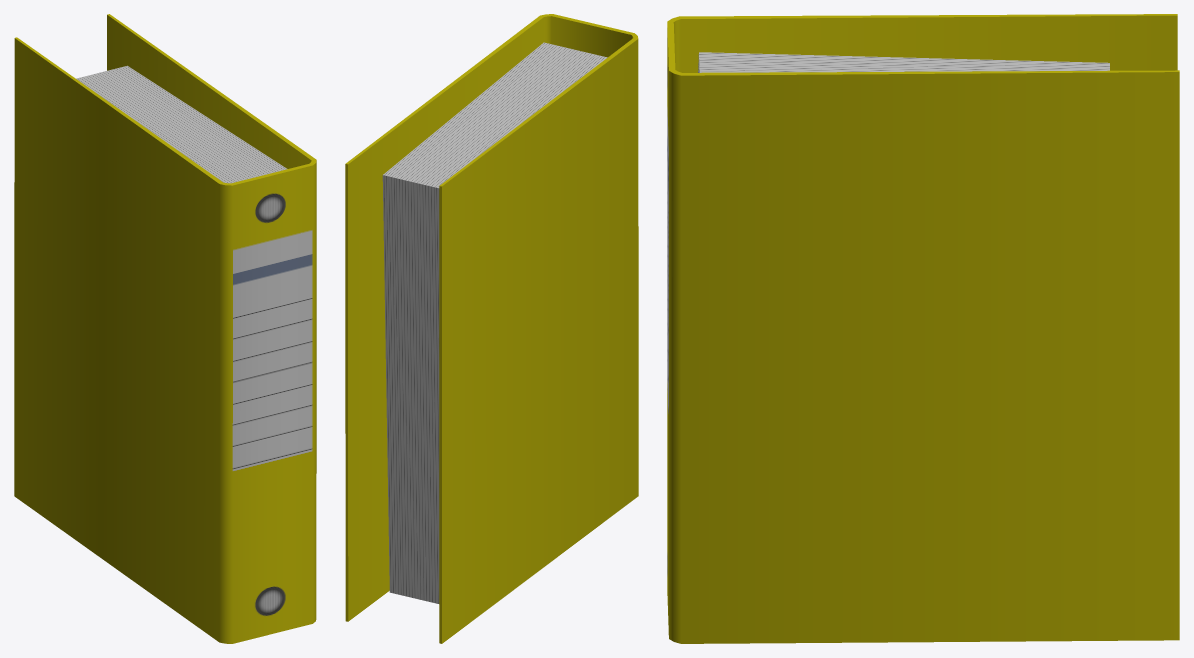
Rendered from Office file binder_001.FBX.
The picture shows the model from 3 angles, left to right: view 1: azimuth 30°, elevation 25°; view 2: azimuth 150°, elevation 25°; view 3: azimuth 270°, elevation 25°; orthographic projection. The views are drawn at different scales.
Parts seen in each view (by area): view 1: Office file binder_001; view 2: Office file binder_001; view 3: Office file binder_001.
Boxes of the visible parts, x1=… form: Office file binder_001: x1=14, y1=14, x2=316, y2=643; Office file binder_001: x1=345, y1=14, x2=638, y2=643; Office file binder_001: x1=667, y1=14, x2=1179, y2=643.
Size of the model in its own units: 0.0746 by 0.3203 by 0.2617.
